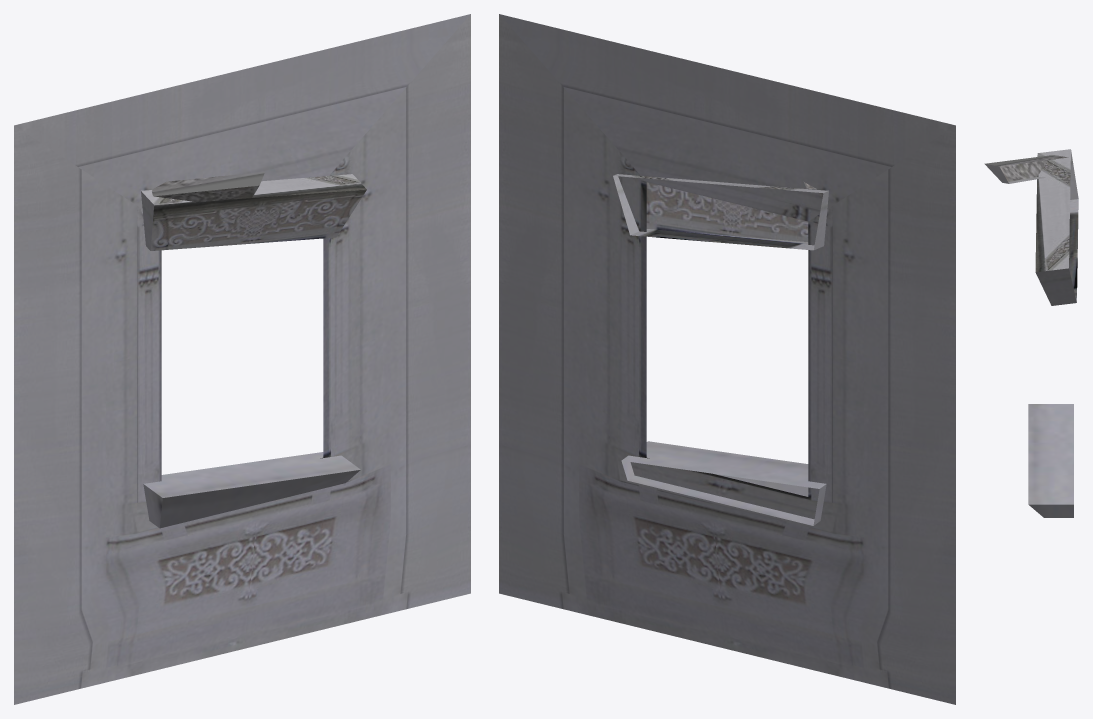
File: windowDmg.obj
The picture shows the model from 3 angles, left to right: view 1: azimuth 30°, elevation 25°; view 2: azimuth 150°, elevation 25°; view 3: azimuth 270°, elevation 25°; orthographic projection. The views are drawn at different scales.
Visible parts, largest first — view 1: polySurface179; view 2: polySurface179; view 3: polySurface179.
Part boxes in pixels (x1,y1,x2,y2): polySurface179: (14, 14, 470, 704); polySurface179: (499, 14, 955, 704); polySurface179: (984, 149, 1078, 517).
Size of the model in its own units: 0.9871 by 1.2 by 0.2052.
Materials: 1 (1 with a texture image).
